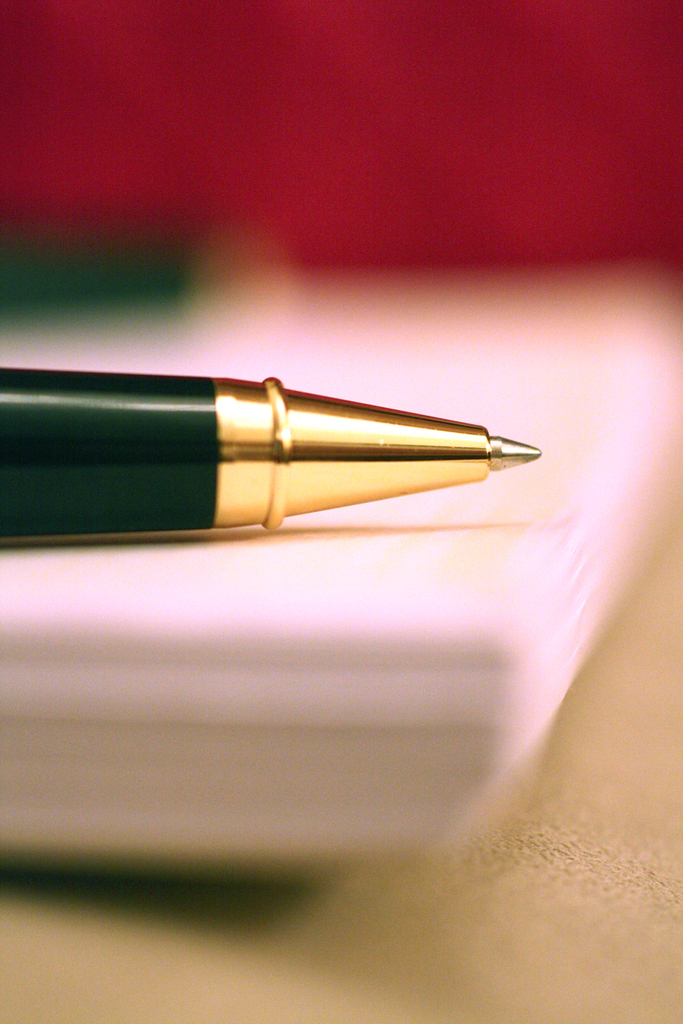Pen: (0, 363, 540, 546)
